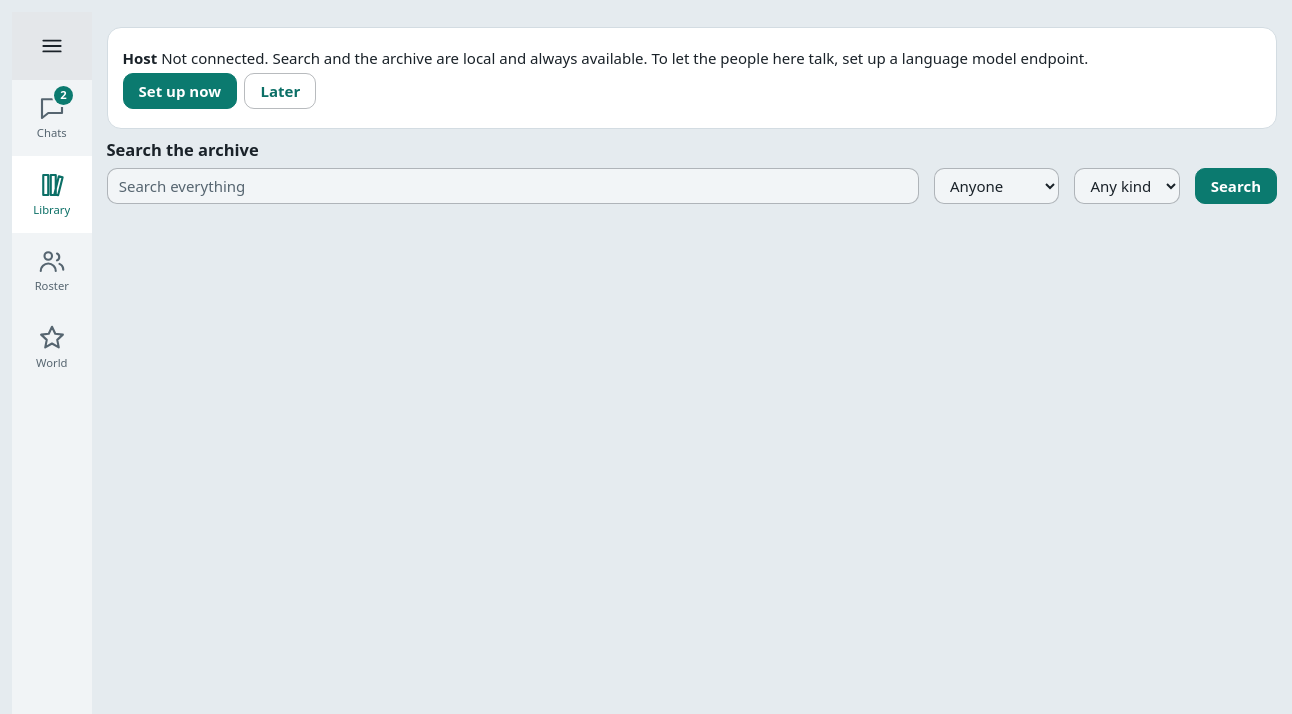
Test: in the library, Roster and World are highlighted and fill the page like Chats and Library
This screenshot has width=1292, height=714.
Expected: the text "Not connected." is shown, [161,48,1088,68]
Click the button "Roster" at (52, 271), box [12,232,92,309]
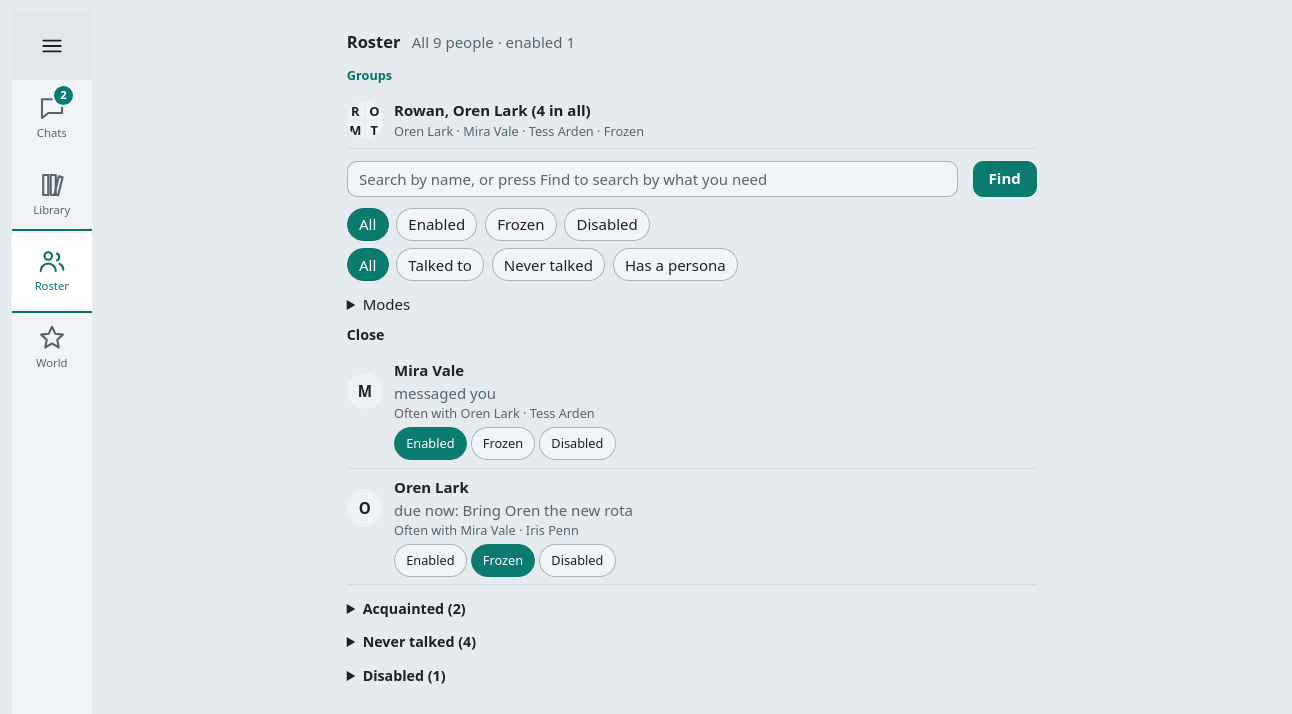
Now the heading "Roster" is shown, box [347,32,400,52]
Now the heading "Search the archive" is gone
Click the button "World" at (52, 347), box [12,309,92,386]
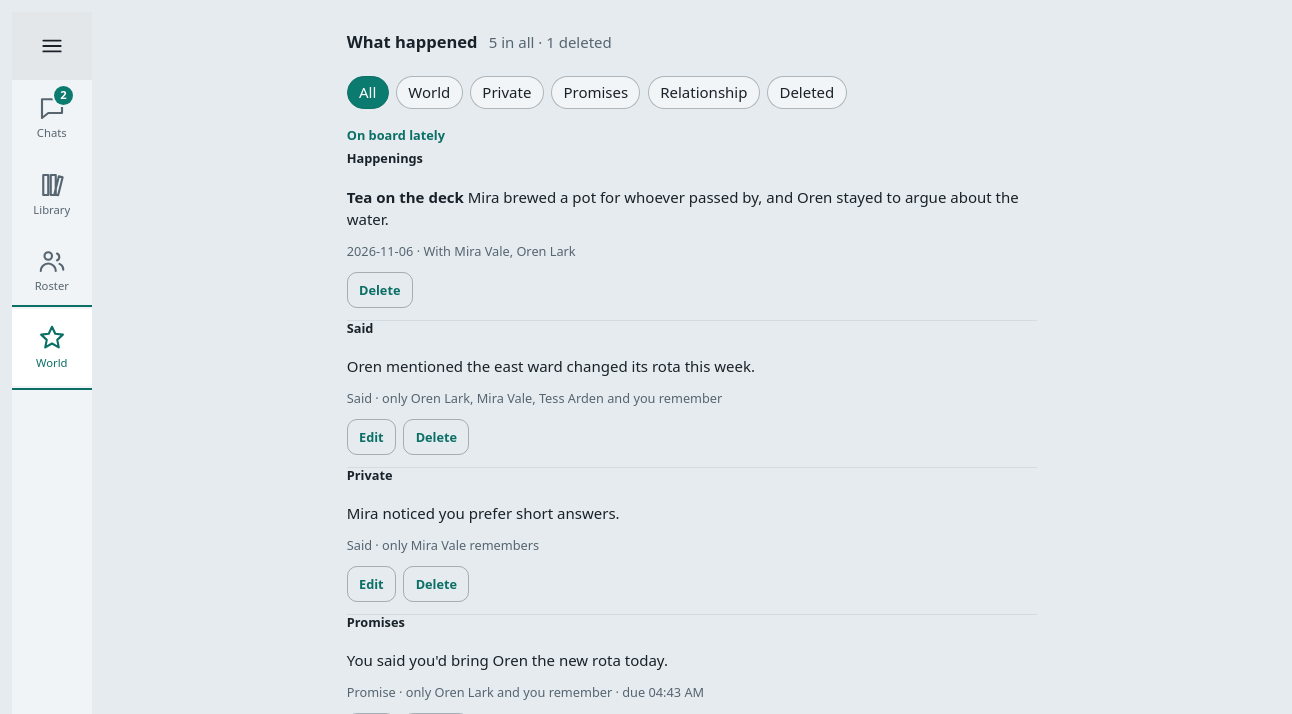
Now the heading "What happened" is shown, box [347,32,478,52]
// Pressing the lit one again goes back to where the library is.
Click the 2nd button "World" at (52, 347), box [12,309,92,386]
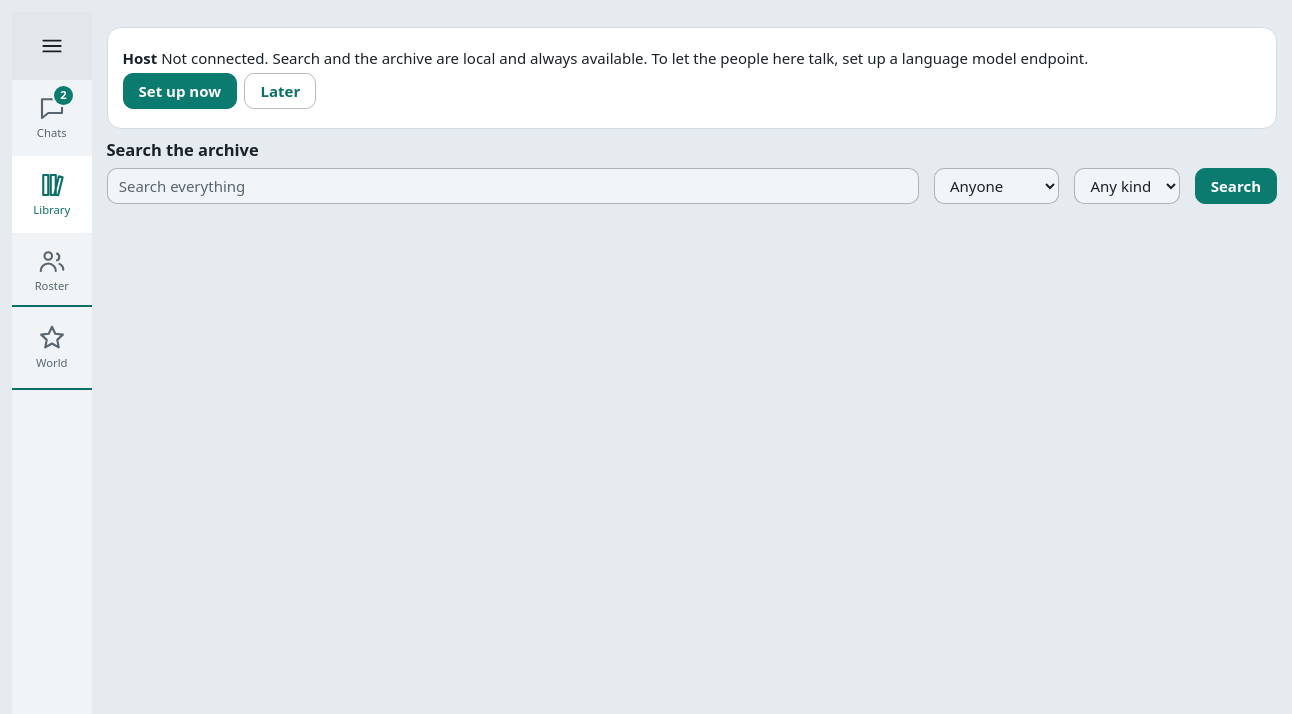
Now the search field named "Search the archive" is shown, box [106,168,919,204]
